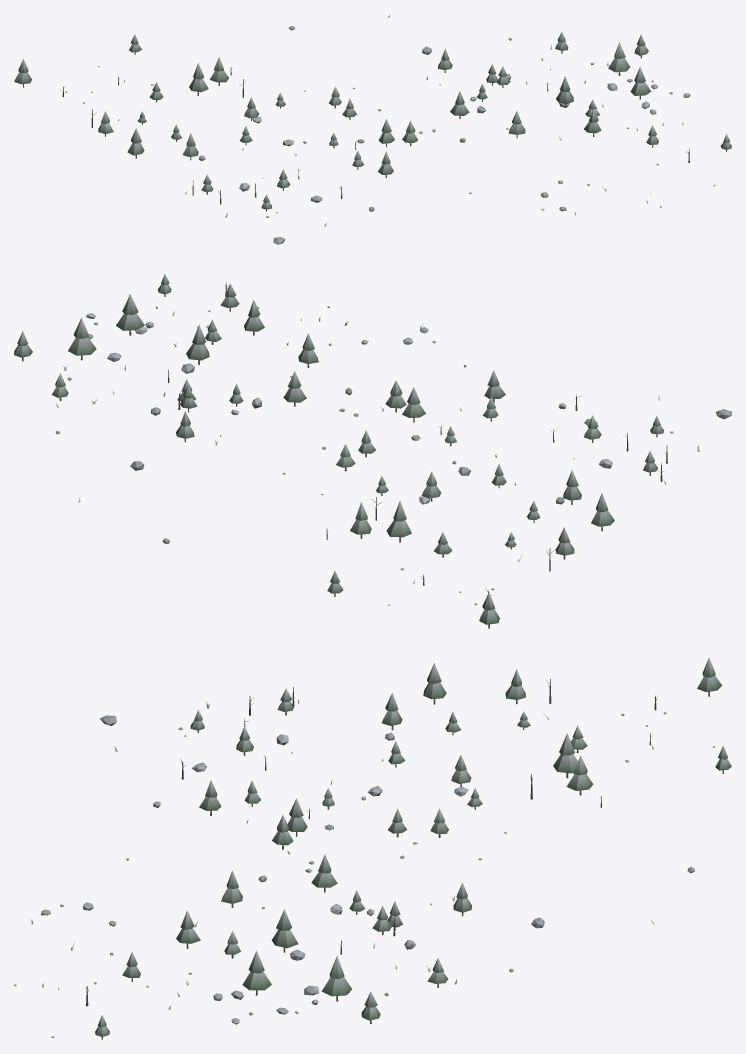
The model's file is frost_land_scatter_c13_11_lod1.glb.
3 renders of one model, top to bottom at view 1: azimuth 30°, elevation 25°; view 2: azimuth 150°, elevation 25°; view 3: azimuth 270°, elevation 25°, orthographic. The views are drawn at different scales.
Parts seen in each view (by area): view 1: frost_land_scatter_c13_11_lod1; view 2: frost_land_scatter_c13_11_lod1; view 3: frost_land_scatter_c13_11_lod1.
Boxes of the visible parts, x1,y1,x2,y2 form: frost_land_scatter_c13_11_lod1: (14,14,731,244); frost_land_scatter_c13_11_lod1: (14,274,731,628); frost_land_scatter_c13_11_lod1: (14,657,731,1039).
Bounding box in the file's own units: 257 × 31.64 × 231.
